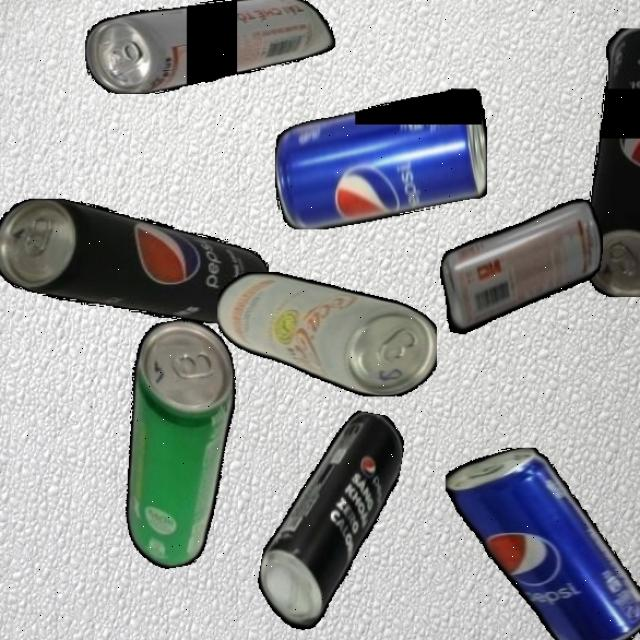debris: (95, 312, 265, 574), (250, 399, 408, 640), (444, 448, 640, 640), (0, 198, 269, 323), (430, 178, 610, 355), (274, 88, 487, 230), (216, 272, 437, 396), (85, 0, 335, 94), (583, 27, 640, 297)
